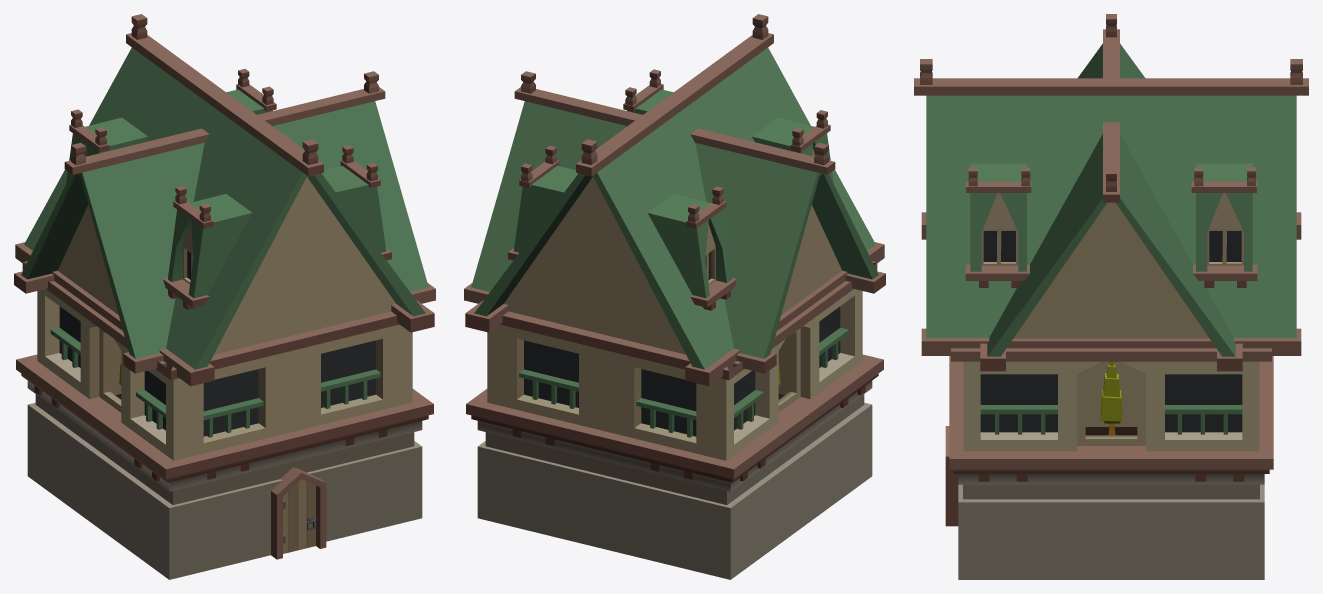
The model's file is SF_Bld_Elven_House_04.fbx.
3 views of the same model, side by side, from view 1: azimuth 30°, elevation 25°; view 2: azimuth 150°, elevation 25°; view 3: azimuth 270°, elevation 25° (orthographic). The views are drawn at different scales.
Parts seen in each view (by area): view 1: SF_Bld_Elven_House_04; view 2: SF_Bld_Elven_House_04; view 3: SF_Bld_Elven_House_04.
Boxes of the visible parts, left/top/right/bottom form: SF_Bld_Elven_House_04: left=14, top=14, right=435, bottom=579; SF_Bld_Elven_House_04: left=464, top=14, right=885, bottom=579; SF_Bld_Elven_House_04: left=914, top=14, right=1308, bottom=579.
Size of the model in its own units: 17.77 by 22.69 by 17.97.
